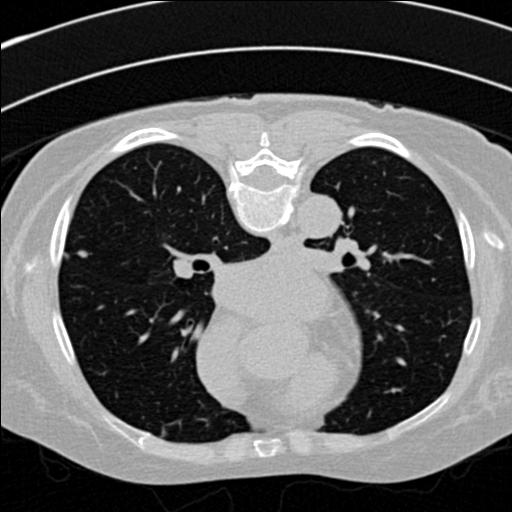nodule: (74, 248, 88, 262)
